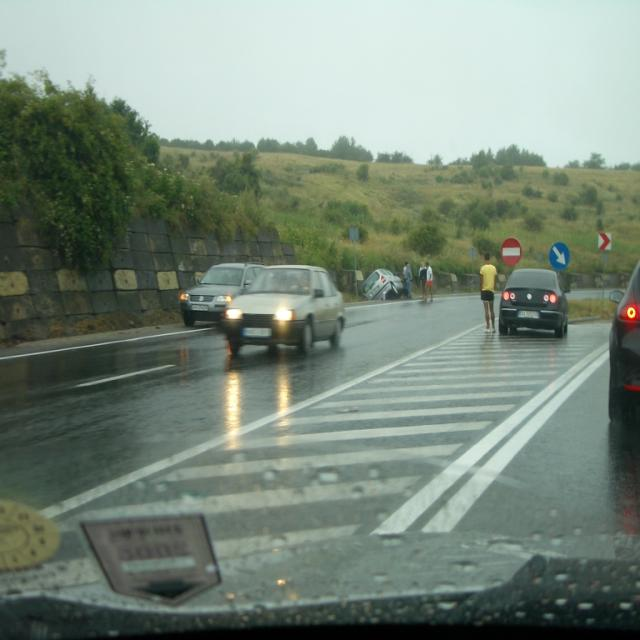car: (227, 260, 349, 358), (500, 267, 569, 335), (366, 267, 405, 299)
